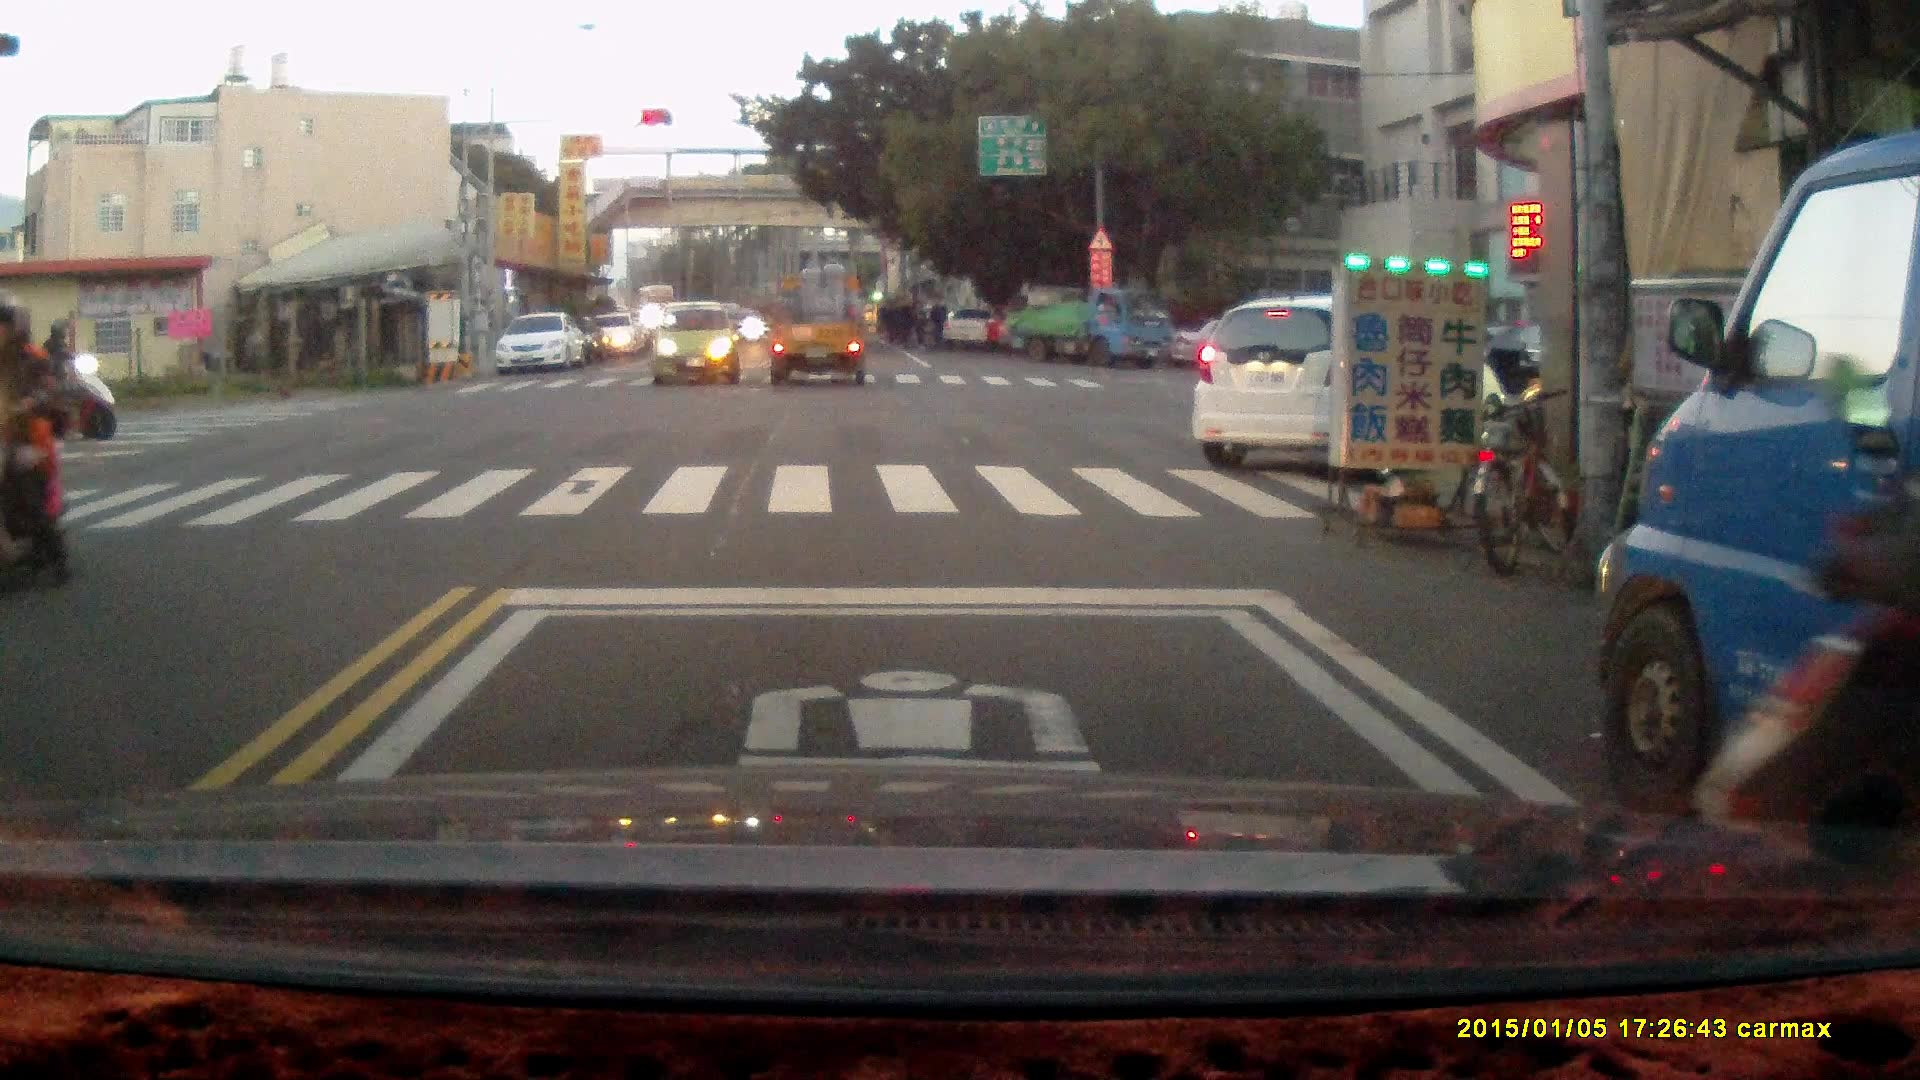rider: (0, 297, 73, 599), (14, 314, 115, 441)
vehicle: (1597, 132, 1920, 910), (1197, 293, 1509, 467), (767, 248, 874, 389), (1002, 284, 1174, 367), (657, 298, 746, 386), (500, 313, 587, 378), (592, 311, 642, 360)
